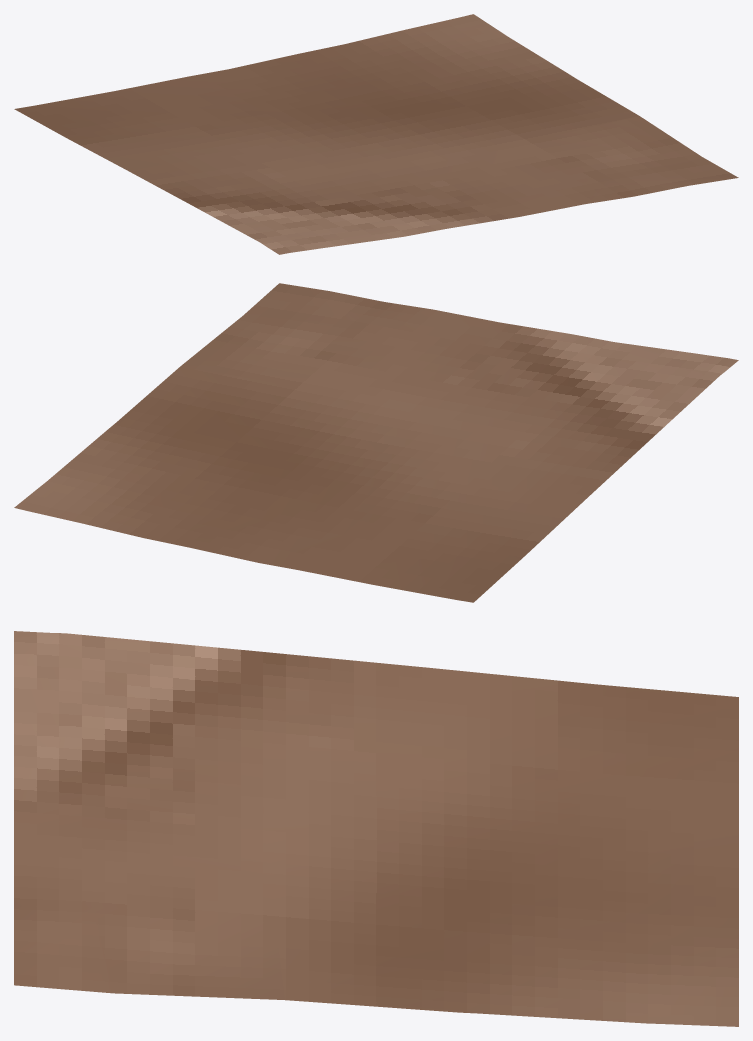
3 views of the same model, one above another, from view 1: azimuth 30°, elevation 25°; view 2: azimuth 150°, elevation 25°; view 3: azimuth 270°, elevation 25° (orthographic). The views are drawn at different scales.
Bounding box in the file's own units: 4 × 0.5451 × 4.
Materials: 1 (1 with a texture image).
